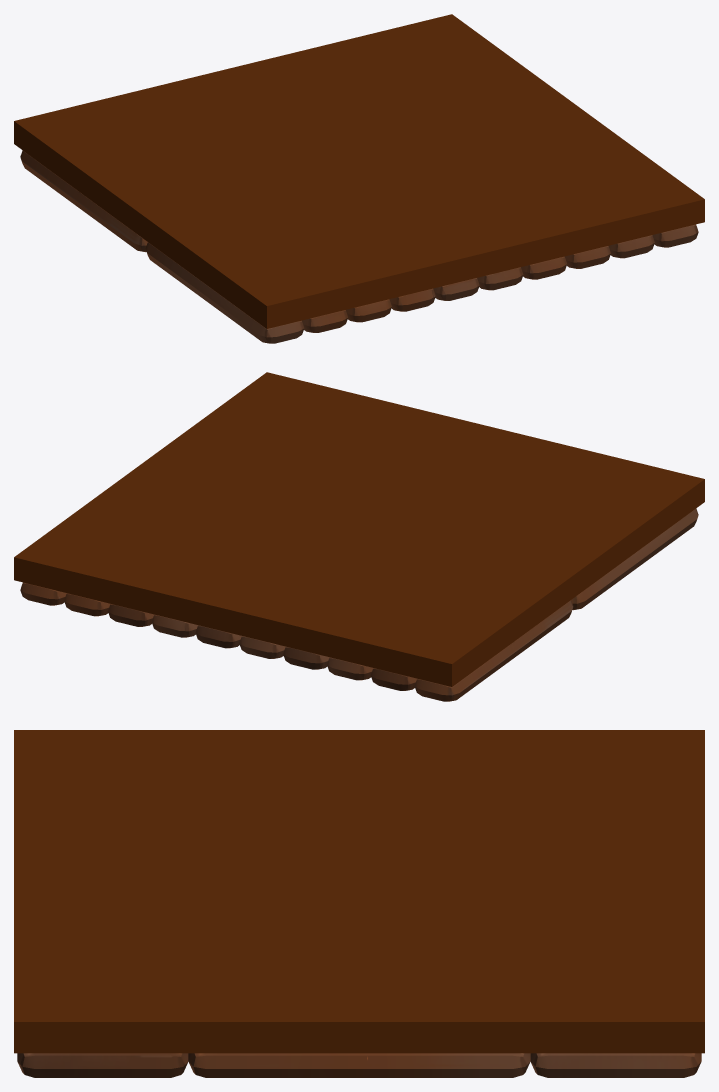
File: ceiling.glb
3 views of the same model, one above another, from view 1: azimuth 30°, elevation 25°; view 2: azimuth 150°, elevation 25°; view 3: azimuth 270°, elevation 25° (orthographic). The views are drawn at different scales.
Parts seen in each view (by area): view 1: Cube, ceiling1; view 2: Cube, ceiling1; view 3: Cube, ceiling1.
Part boxes in pixels (left/top/right/bottom): Cube: left=14, top=14, right=704, bottom=328; ceiling1: left=20, top=150, right=698, bottom=343; Cube: left=14, top=372, right=704, bottom=686; ceiling1: left=20, top=508, right=698, bottom=701; Cube: left=14, top=730, right=704, bottom=1053; ceiling1: left=17, top=1053, right=701, bottom=1077.
Bounding box in the file's own units: 2 × 0.2 × 2.
2 materials, 1 textured.
